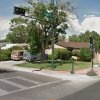crosswalk: (0, 76, 44, 94)
